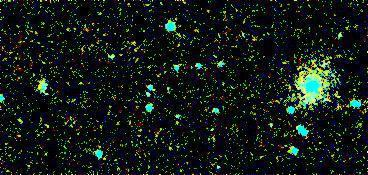star: (306, 74, 336, 104)
